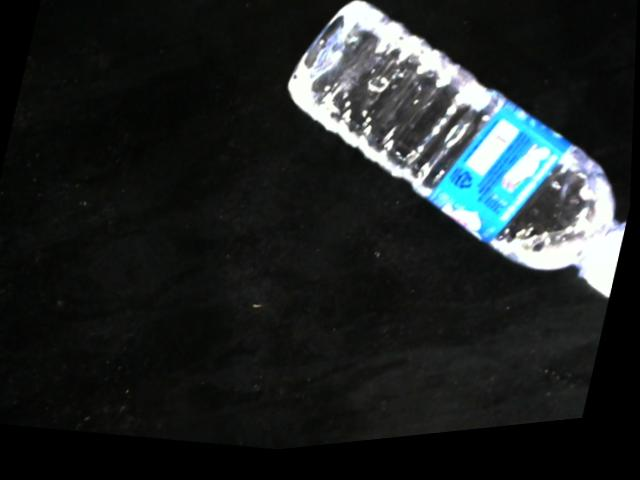bottle: (286, 6, 629, 315)
